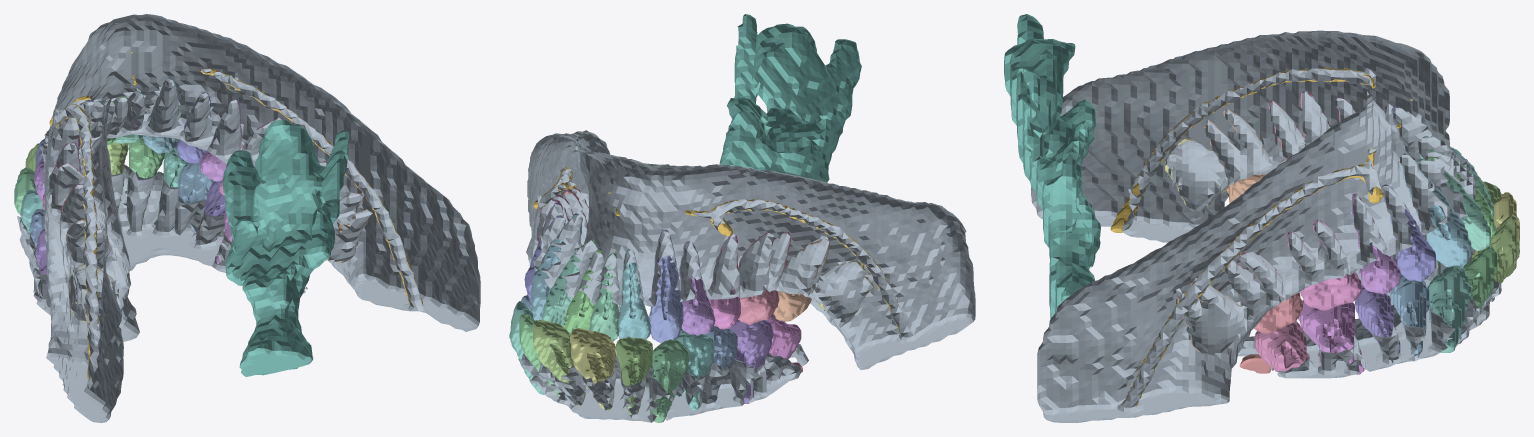
File: ToothFairy3S_0001.glb
The picture shows the model from 3 angles, left to right: view 1: azimuth 30°, elevation 25°; view 2: azimuth 150°, elevation 25°; view 3: azimuth 270°, elevation 25°; orthographic projection. The views are drawn at different scales.
Parts seen in each view (by area): view 1: jaws__1, other__7, jaws__2, teeth__24, teeth__22, teeth__23, teeth__35, canals__4, teeth__25, teeth__13, teeth__33, teeth__14 (+3 smaller); view 2: jaws__1, other__7, jaws__2, teeth__43, teeth__11, teeth__13, teeth__21, teeth__42, teeth__16, teeth__12, teeth__44, teeth__14 (+12 smaller); view 3: jaws__1, other__7, jaws__2, teeth__26, teeth__23, teeth__33, teeth__27, teeth__36, teeth__24, teeth__34, teeth__25, teeth__21 (+8 smaller).
Boxes of the visible parts, bbox=[...] form: jaws__1: bbox=[39, 14, 480, 422]; other__7: bbox=[223, 119, 349, 376]; jaws__2: bbox=[17, 164, 307, 341]; teeth__24: bbox=[173, 162, 214, 232]; teeth__22: bbox=[127, 135, 164, 230]; teeth__23: bbox=[156, 139, 186, 221]; teeth__35: bbox=[200, 98, 241, 181]; canals__4: bbox=[49, 104, 98, 380]; teeth__25: bbox=[195, 181, 225, 242]; teeth__13: bbox=[14, 167, 35, 214]; teeth__33: bbox=[143, 77, 179, 153]; teeth__14: bbox=[20, 189, 43, 250]; jaws__1: bbox=[526, 130, 975, 369]; other__7: bbox=[719, 14, 861, 182]; jaws__2: bbox=[518, 306, 808, 422]; teeth__43: bbox=[649, 229, 683, 343]; teeth__11: bbox=[570, 328, 616, 410]; teeth__13: bbox=[649, 339, 689, 422]; teeth__21: bbox=[533, 320, 585, 405]; teeth__42: bbox=[618, 249, 650, 339]; teeth__16: bbox=[722, 320, 773, 403]; teeth__12: bbox=[615, 337, 653, 414]; teeth__44: bbox=[679, 241, 715, 335]; teeth__14: bbox=[675, 328, 714, 410]; jaws__1: bbox=[1031, 30, 1475, 422]; other__7: bbox=[1004, 14, 1100, 318]; jaws__2: bbox=[1237, 234, 1501, 378]; teeth__26: bbox=[1298, 300, 1364, 374]; teeth__23: bbox=[1427, 265, 1471, 352]; teeth__33: bbox=[1400, 153, 1471, 267]; teeth__27: bbox=[1255, 321, 1312, 371]; teeth__36: bbox=[1287, 219, 1361, 310]; teeth__24: bbox=[1390, 273, 1429, 357]; teeth__34: bbox=[1381, 184, 1435, 281]; teeth__25: bbox=[1355, 285, 1400, 357]; teeth__21: bbox=[1471, 214, 1519, 318].
Size of the model in its own units: 93.62 by 56.1 by 95.8.
